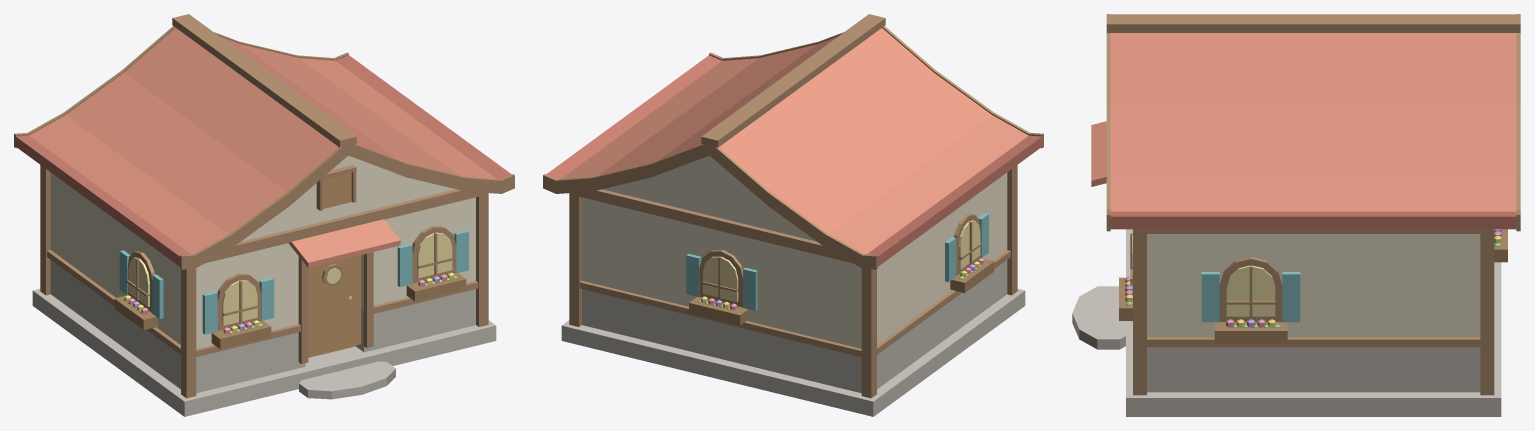
Rendered from farmhouse_cream.glb.
3 renders of one model, left to right at view 1: azimuth 30°, elevation 25°; view 2: azimuth 150°, elevation 25°; view 3: azimuth 270°, elevation 25°, orthographic. The views are drawn at different scales.
Parts seen in each view (by area): view 1: Player; view 2: Player; view 3: Player.
Boxes of the visible parts, bbox=[...] form: Player: bbox=[14, 14, 514, 416]; Player: bbox=[543, 14, 1043, 416]; Player: bbox=[1072, 14, 1520, 416].
Bounding box in the file's own units: 6.84 × 4.82 × 6.45.
